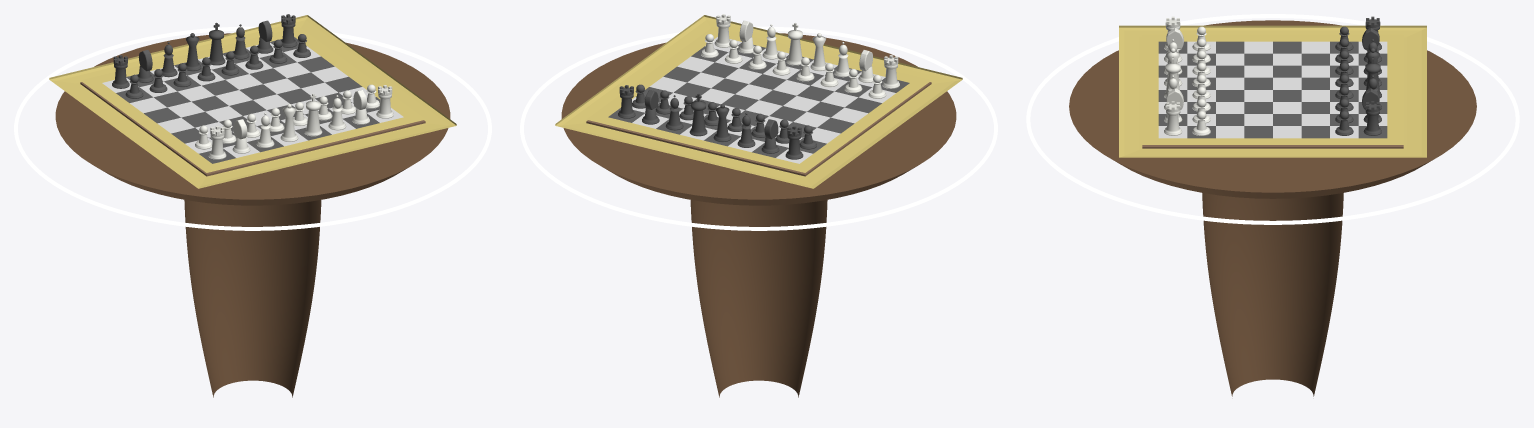
Rendered from a-game-of-chess.gltf.
3 renders of one model, left to right at view 1: azimuth 30°, elevation 25°; view 2: azimuth 150°, elevation 25°; view 3: azimuth 270°, elevation 25°, orthographic. The views are drawn at different scales.
Size of the model in its own units: 12.1 by 9.38 by 12.1.
